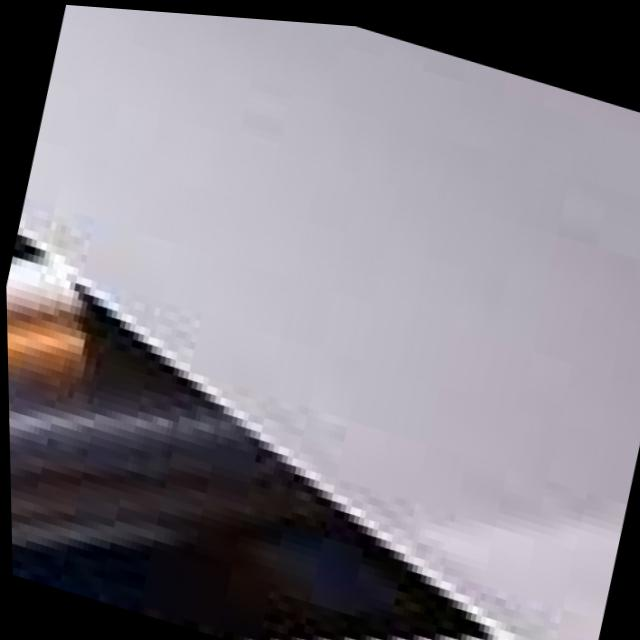metal-plates: (17, 5, 640, 640)
